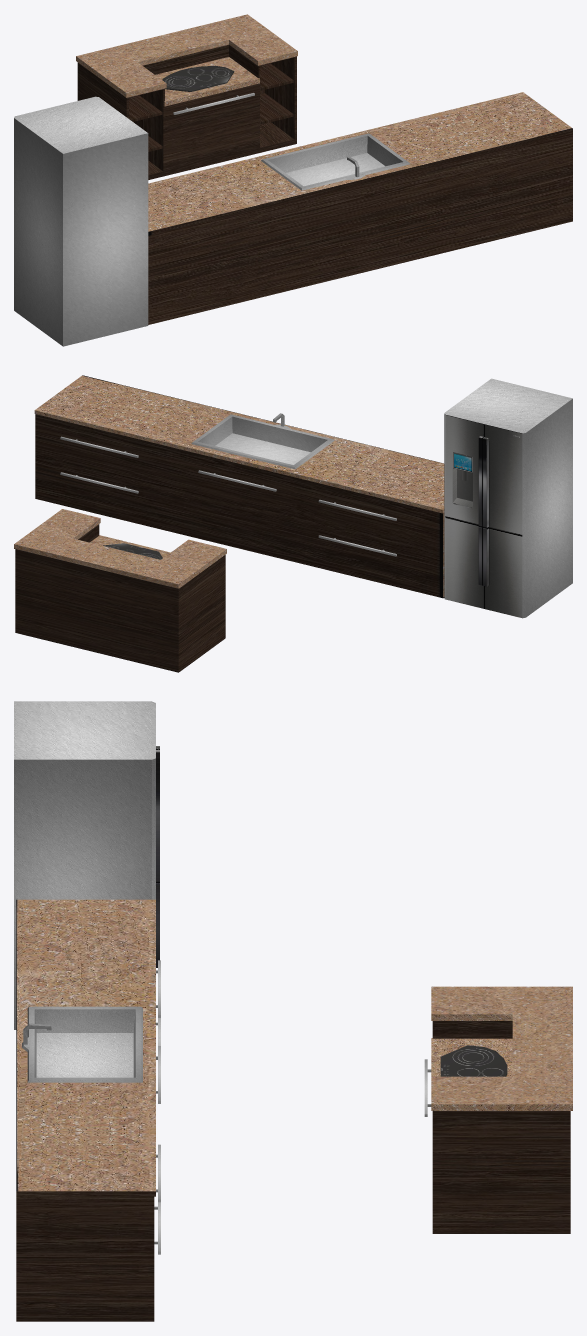
The model's file is kitchen 2.fbx.
3 views of the same model, one above another, from view 1: azimuth 30°, elevation 25°; view 2: azimuth 150°, elevation 25°; view 3: azimuth 270°, elevation 25° (orthographic). The views are drawn at different scales.
Parts seen in each view (by area): view 1: polySurface9, polySurface10, polySurface15, polySurface4; view 2: polySurface9, polySurface10, polySurface15, polySurface11, polySurface17, polySurface4; view 3: polySurface9, polySurface15, polySurface10, polySurface4, polySurface11, polySurface17.
Boxes of the visible parts, box(x1,y1,x2,y2) form: polySurface9: box(148, 92, 572, 324); polySurface10: box(14, 96, 148, 346); polySurface15: box(76, 14, 297, 179); polySurface4: box(162, 65, 234, 91); polySurface9: box(34, 375, 444, 598); polySurface10: box(444, 378, 572, 618); polySurface15: box(14, 509, 226, 672); polySurface11: box(478, 436, 488, 586); polySurface17: box(60, 436, 396, 556); polySurface4: box(103, 543, 162, 559); polySurface9: box(16, 899, 155, 1321); polySurface15: box(424, 986, 572, 1233); polySurface10: box(14, 701, 155, 1029); polySurface4: box(440, 1045, 507, 1076); polySurface11: box(156, 746, 159, 967); polySurface17: box(154, 960, 160, 1254).
Bounding box in the file's own units: 7.83 × 2.82 × 5.29.
Materials: 1 (1 with a texture image).
